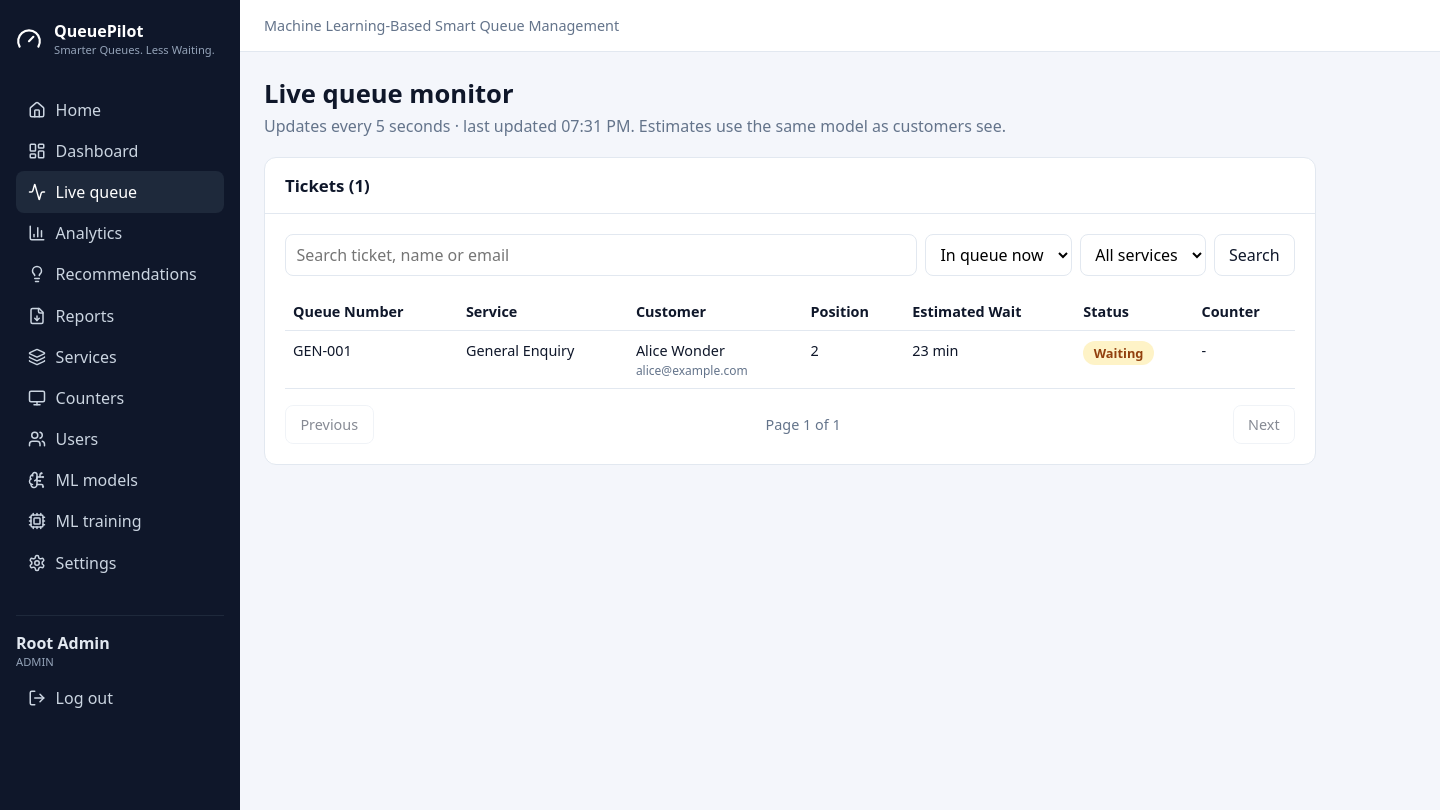
it: live queue refreshes automatically and keeps the filters
This screenshot has width=1440, height=810.
Expected: the text "GEN-001" is shown, x1=285 y1=331 x2=458 y2=389
Select "Waiting" in the dropdown named "Filter by status". click: (998, 255)
box: x1=925 y1=234 x2=1072 y2=276
Wait 5000 ms
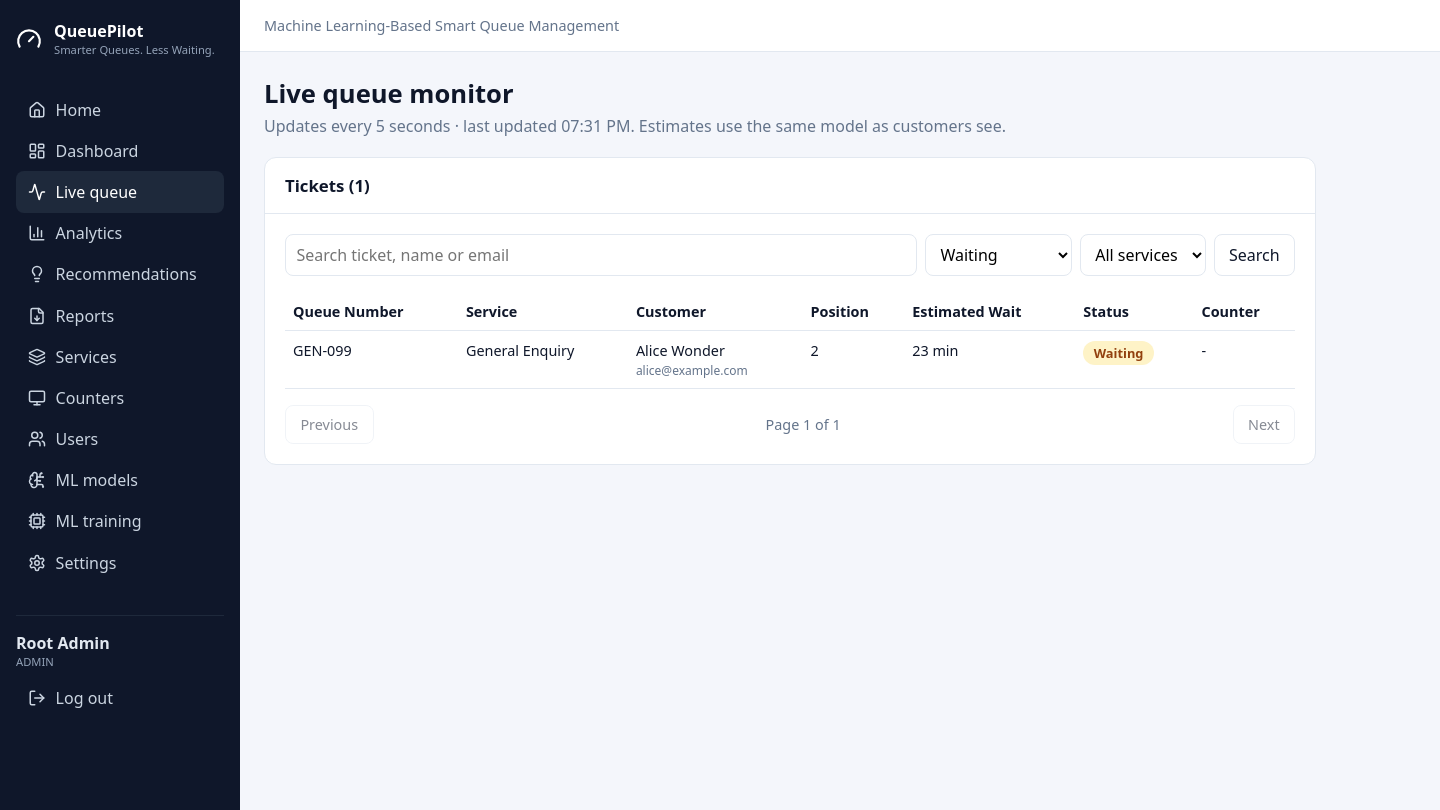
Result: the text "GEN-099" is shown at x1=285 y1=331 x2=458 y2=389
